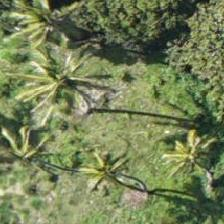coconut_tree: (54, 130, 144, 220), (146, 109, 223, 199), (4, 0, 94, 63), (0, 30, 53, 120)
